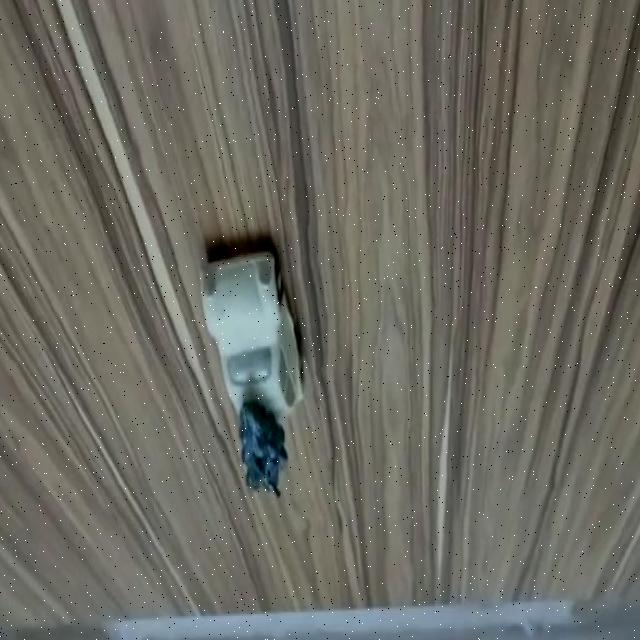car: (198, 250, 304, 412)
